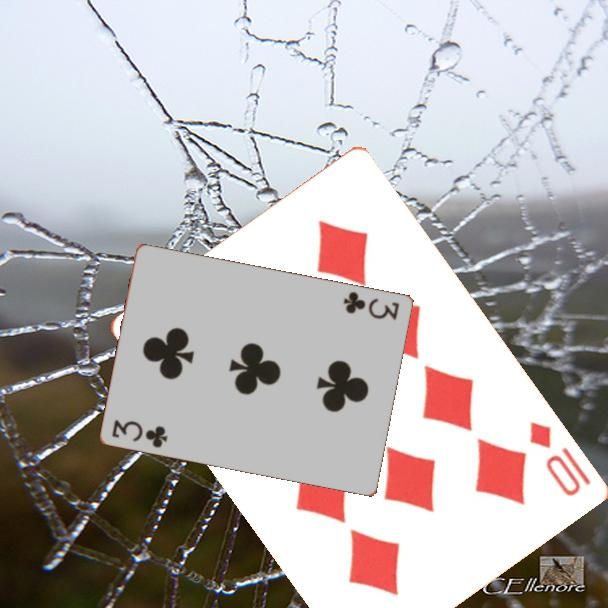c03: (340, 288, 403, 323), (108, 416, 171, 451)
d10: (524, 417, 594, 499)
